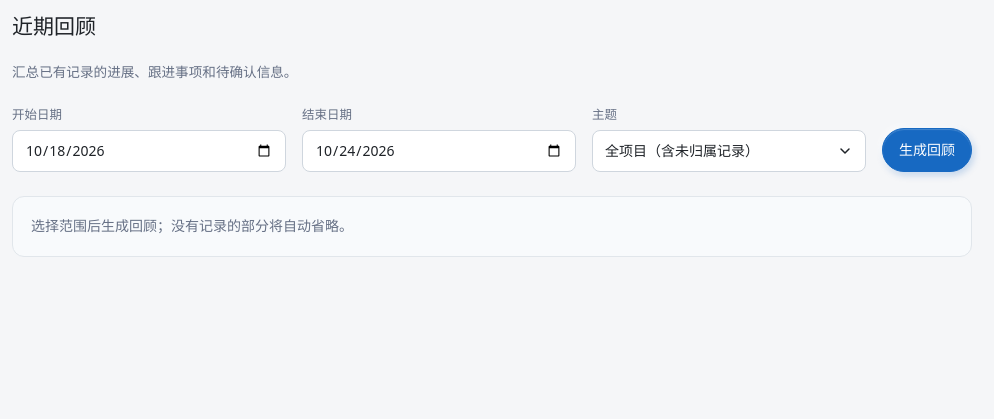
Test: 失败后允许重试
The image size is (994, 419).
Click the button "生成回顾" at (927, 150), box [882, 128, 972, 172]
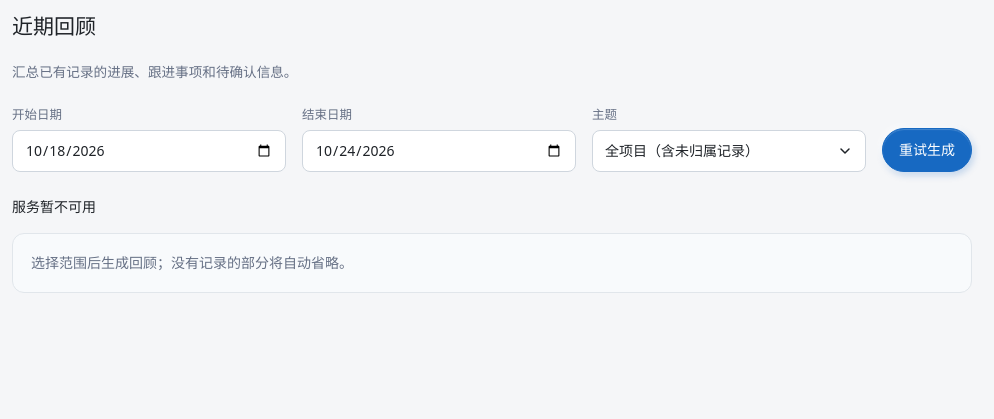
Expected: the message reads "服务暂不可用", [12, 197, 96, 216]
Click the button "重试生成" at (927, 150), box [882, 128, 972, 172]
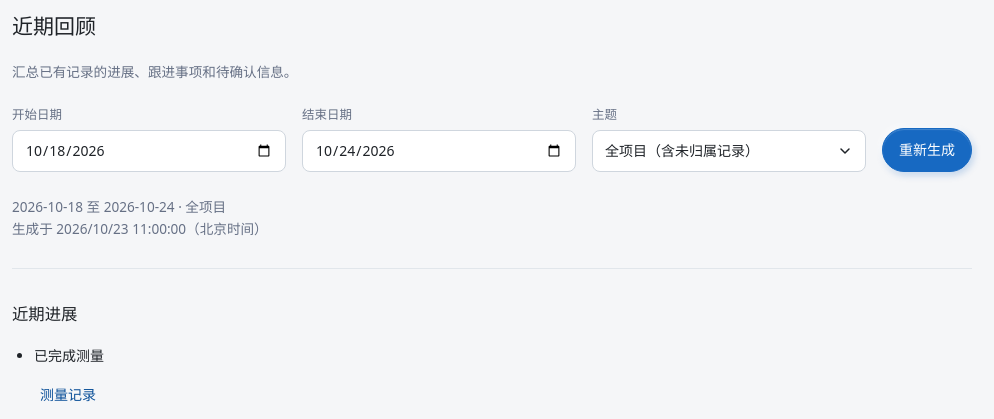
Expected: the text "已完成测量" is shown, [34, 346, 104, 365]
